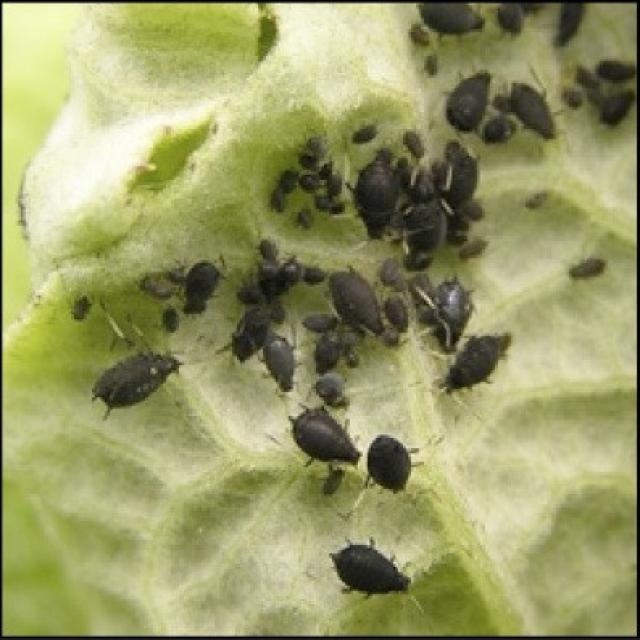Aphid-Grouped-: (180, 118, 522, 479)
Aphid-Grown-: (83, 344, 205, 422), (323, 532, 426, 607), (281, 399, 368, 484), (321, 255, 390, 341), (356, 427, 436, 496), (434, 63, 500, 143), (349, 145, 401, 239), (253, 324, 307, 400)
